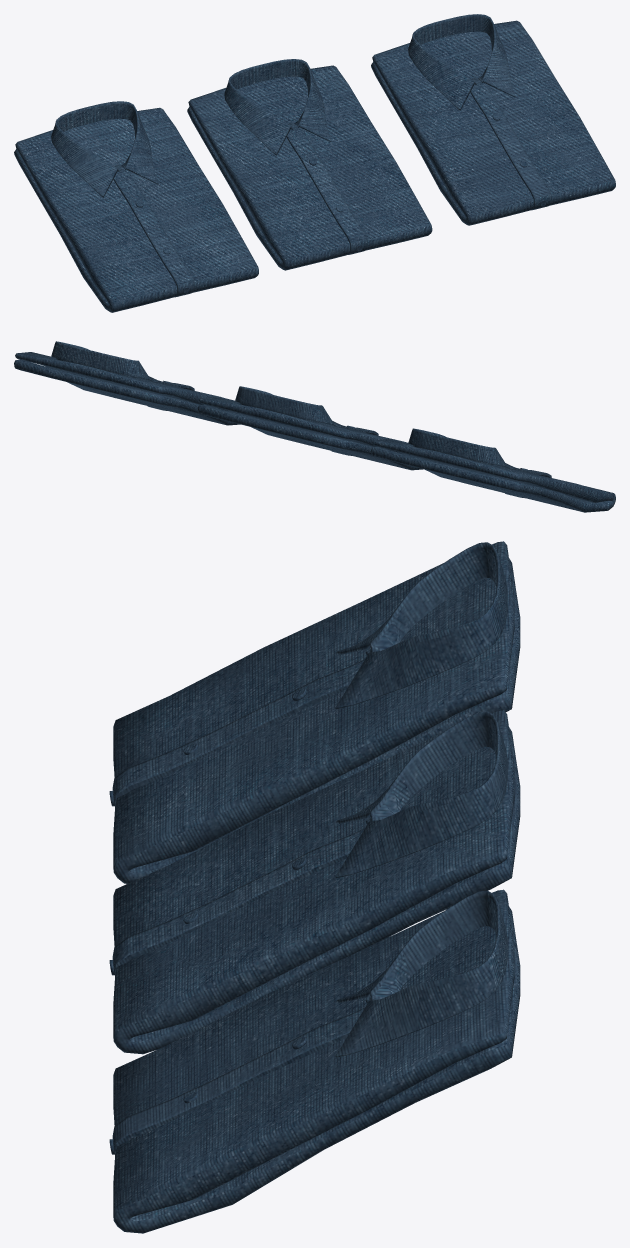
The model's file is chenshan05.fbx.
The picture shows the model from 3 angles, top to bottom: view 1: azimuth 30°, elevation 25°; view 2: azimuth 150°, elevation 25°; view 3: azimuth 270°, elevation 25°; orthographic projection. The views are drawn at different scales.
Parts seen in each view (by area): view 1: chenshan05; view 2: chenshan05; view 3: chenshan05.
Part boxes in pixels (left/top/right/bottom): chenshan05: left=14, top=14, right=615, bottom=312; chenshan05: left=14, top=341, right=615, bottom=512; chenshan05: left=109, top=541, right=520, bottom=1233.
Bounding box in the file's own units: 84.01 × 19.29 × 29.46.
